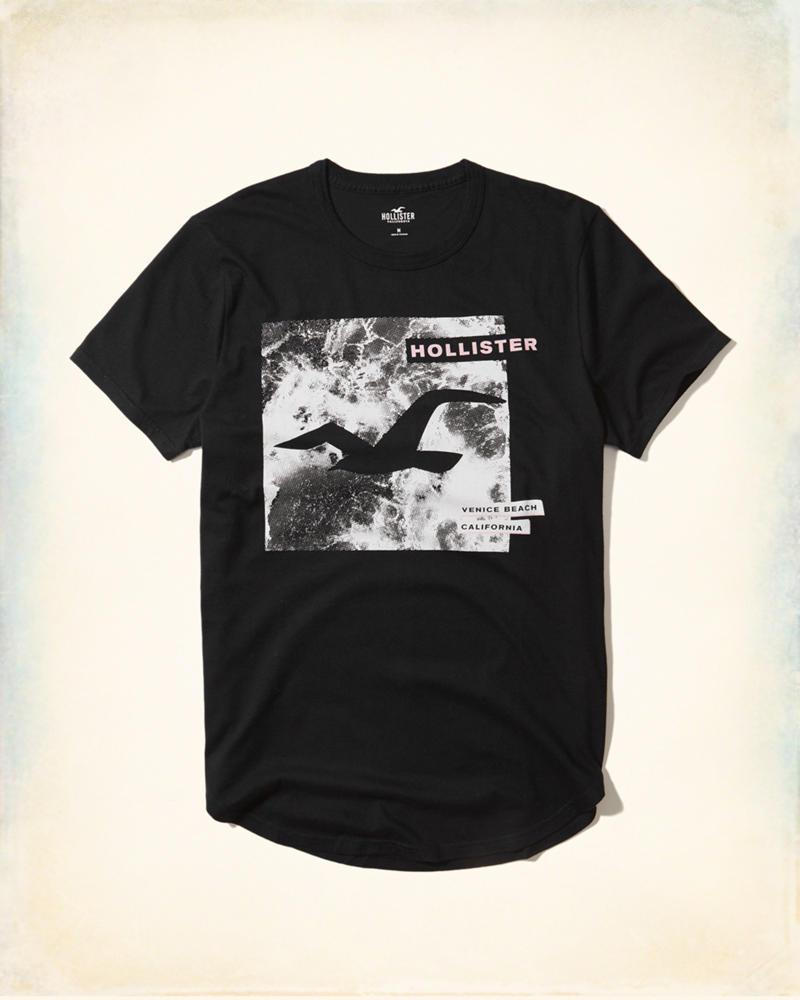teeshirt: (71, 150, 753, 892)
